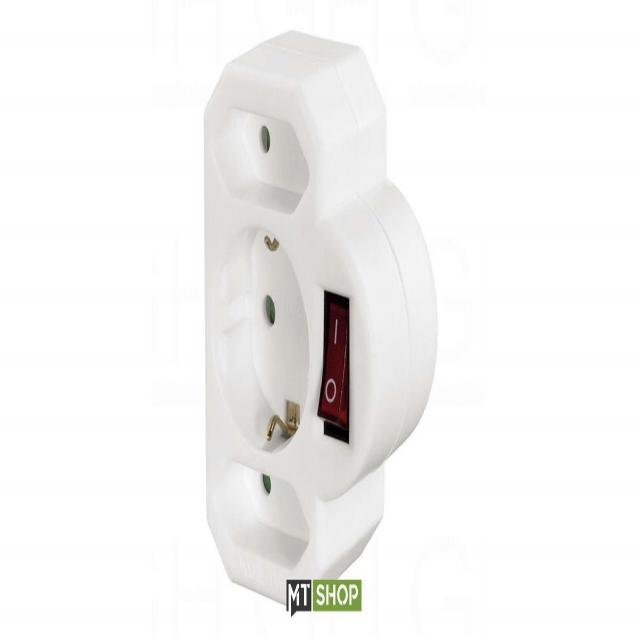typeb: (196, 222, 326, 456)
